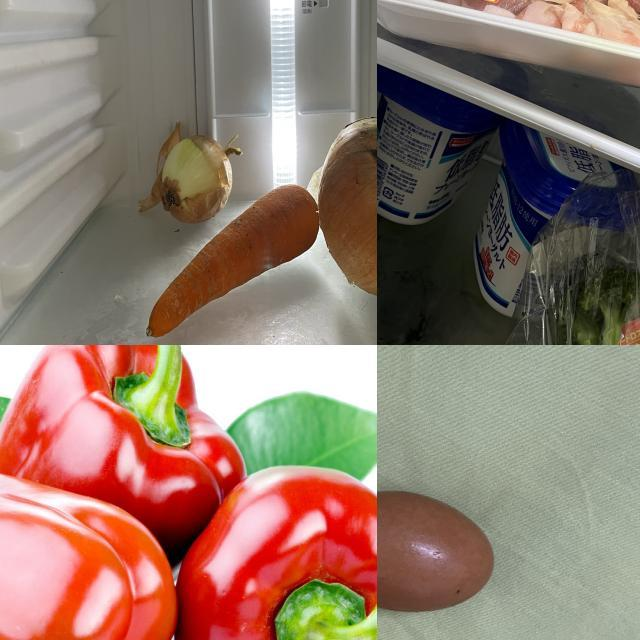bell_pepper: (1, 346, 257, 543), (172, 451, 378, 640), (1, 457, 162, 640)
carrot: (149, 180, 323, 344)
egg: (378, 484, 506, 614)
onion: (318, 115, 378, 299), (153, 123, 245, 228)
